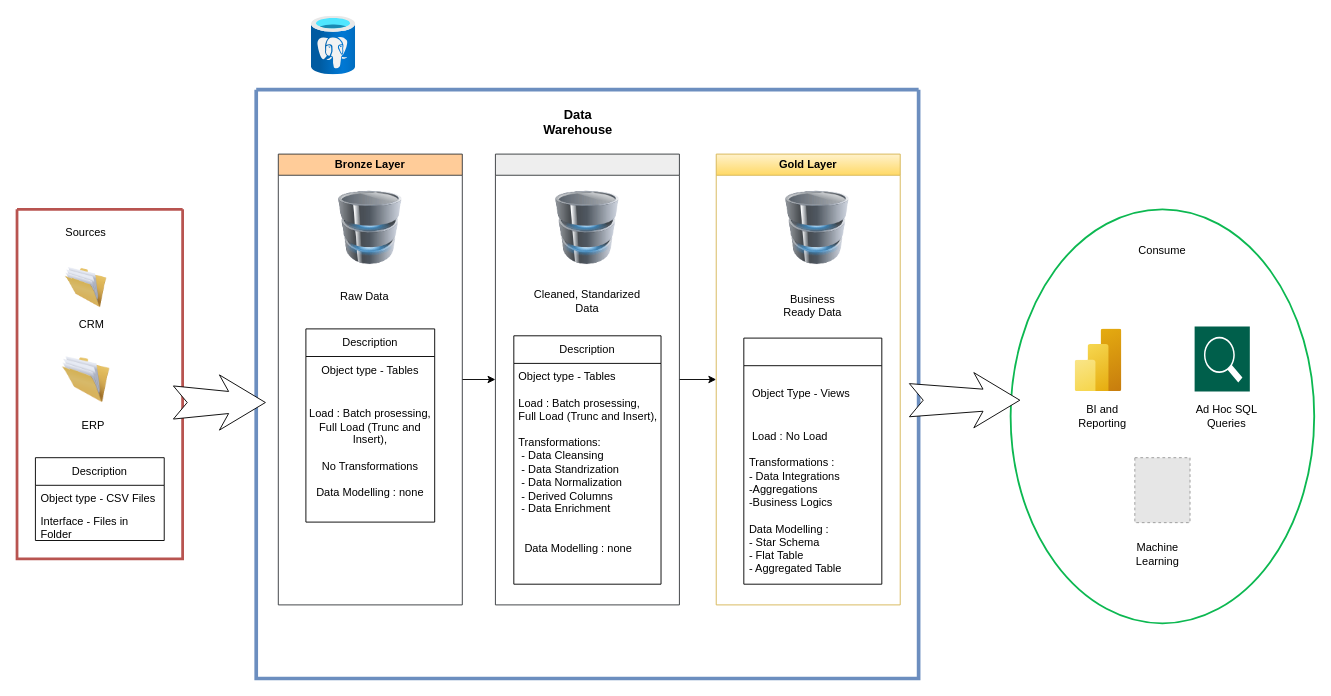
The diagram is 1331 pixels wide and 696 high, and some of its shapes have lost their labels. Grey dashed boxes stand in for pictures. Here are the shapes that lost their labels. From the top down, the box of each, then its label:
(494, 153, 679, 605): Silver Layer
(743, 337, 882, 584): List
